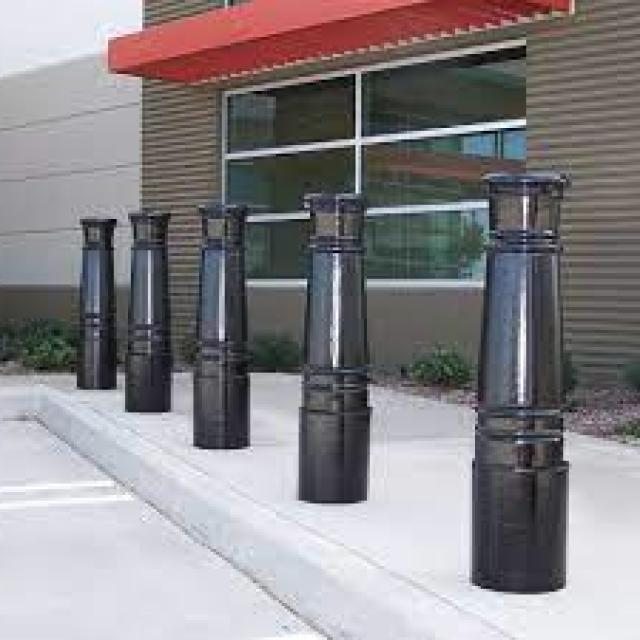bollard: (464, 160, 578, 598), (291, 183, 375, 504), (185, 193, 252, 456), (116, 210, 172, 420), (62, 205, 121, 402)
